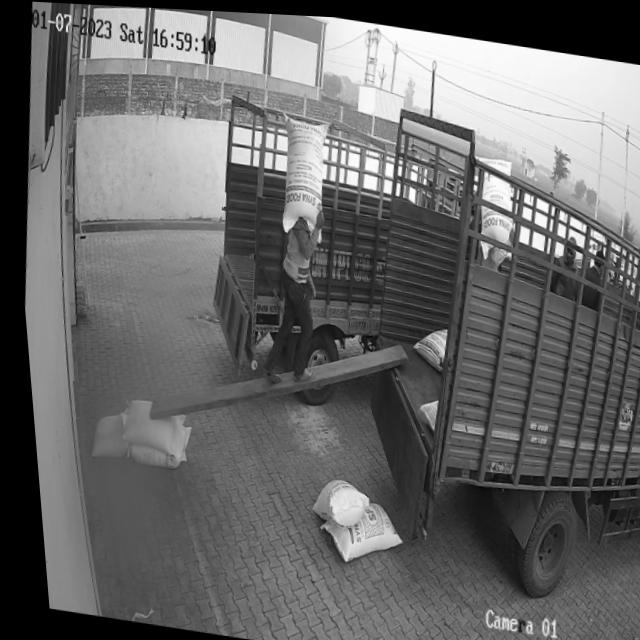sack: (271, 110, 335, 239), (305, 491, 398, 568), (111, 395, 180, 455), (116, 415, 187, 469), (300, 471, 364, 528), (79, 408, 126, 461)
